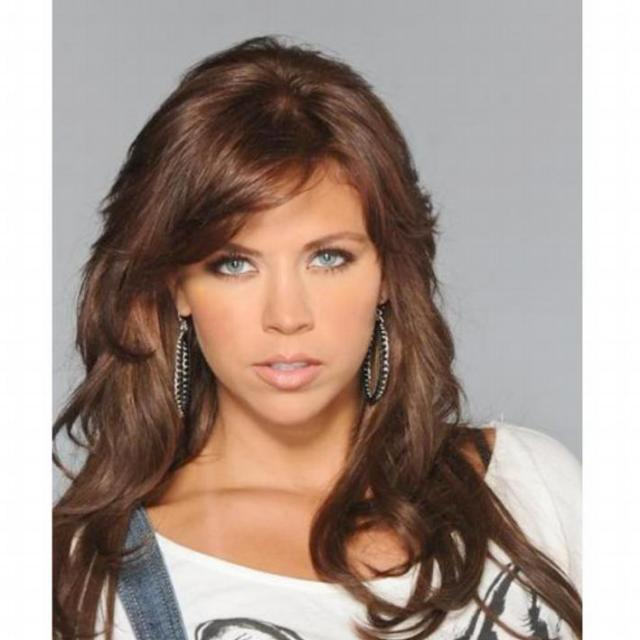live: (154, 117, 402, 439)
